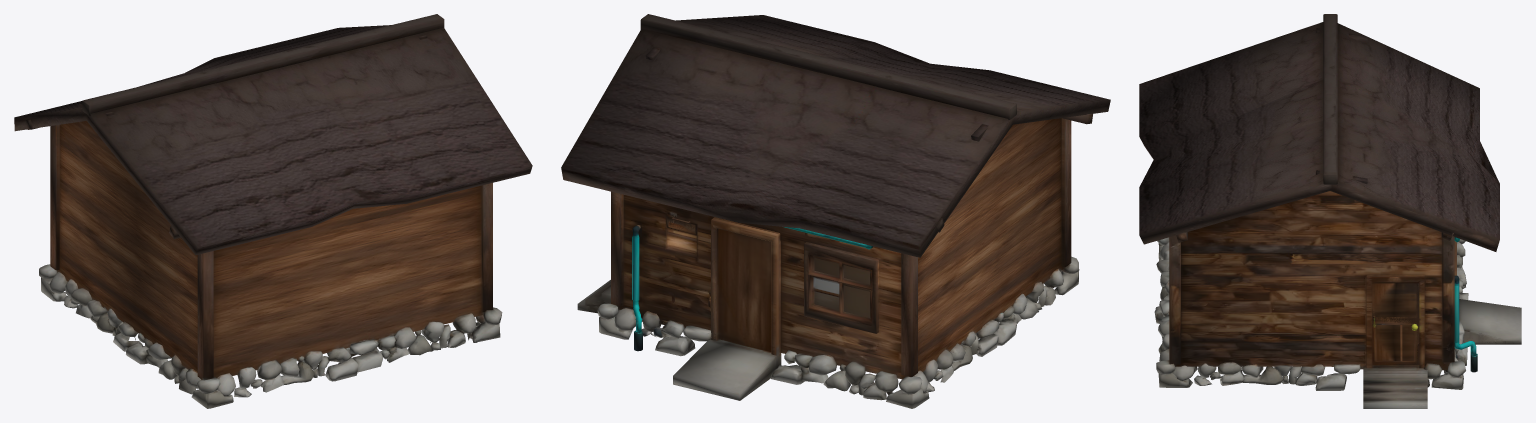
Rendered from stage-1-lv1.glb.
3 views of the same model, side by side, from view 1: azimuth 30°, elevation 25°; view 2: azimuth 150°, elevation 25°; view 3: azimuth 270°, elevation 25° (orthographic). The views are drawn at different scales.
Parts seen in each view (by area): view 1: tripo_node_090bf2b8-ffb3-42c9-9c9e-4cc50317c1fc; view 2: tripo_node_090bf2b8-ffb3-42c9-9c9e-4cc50317c1fc; view 3: tripo_node_090bf2b8-ffb3-42c9-9c9e-4cc50317c1fc.
Boxes of the visible parts, left/top/right/bottom form: tripo_node_090bf2b8-ffb3-42c9-9c9e-4cc50317c1fc: left=14, top=14, right=532, bottom=408; tripo_node_090bf2b8-ffb3-42c9-9c9e-4cc50317c1fc: left=561, top=14, right=1110, bottom=408; tripo_node_090bf2b8-ffb3-42c9-9c9e-4cc50317c1fc: left=1139, top=14, right=1521, bottom=408.
Bounding box in the file's own units: 3.11 × 2 × 3.02.
1 material, 1 textured.
